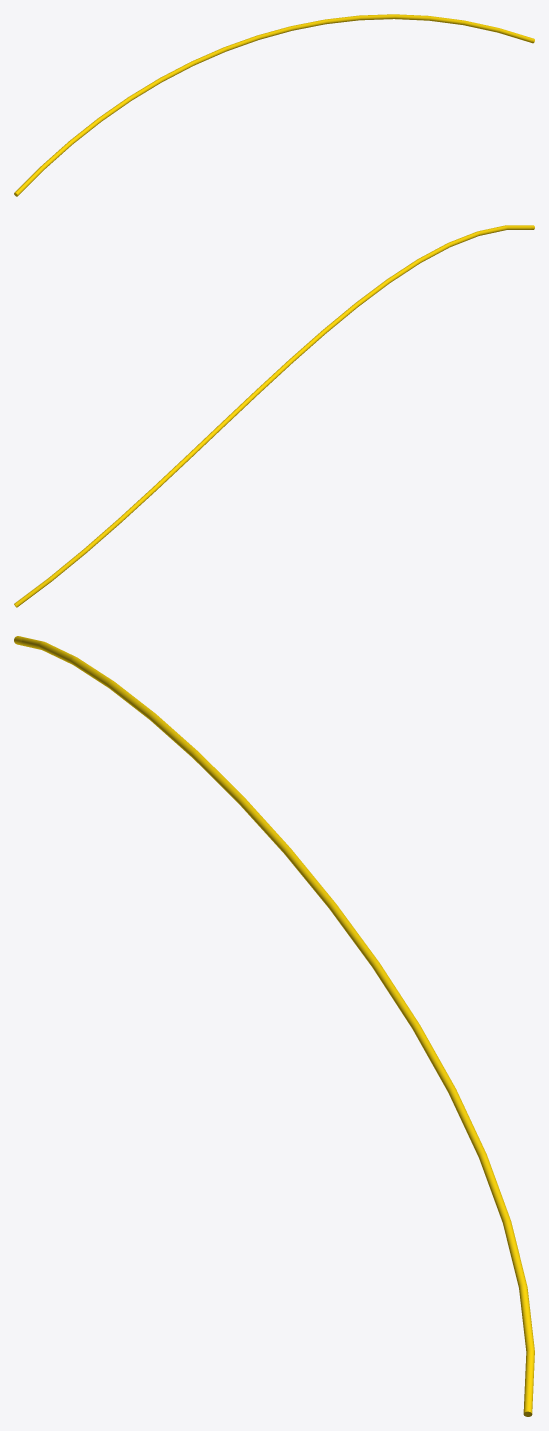
Rendered from Event_421115418_track_189.fbx.
3 views of the same model, one above another, from view 1: azimuth 30°, elevation 25°; view 2: azimuth 210°, elevation 25°; view 3: azimuth 270°, elevation 25° (orthographic). The views are drawn at different scales.
Visible parts, largest first — view 1: Model; view 2: Model; view 3: Model.
Part boxes in pixels (x1,y1,x2,y2): Model: [14, 14, 534, 196]; Model: [14, 225, 534, 607]; Model: [14, 636, 534, 1416].
Bounding box in the file's own units: 6.27 × 1.33 × 2.4.
